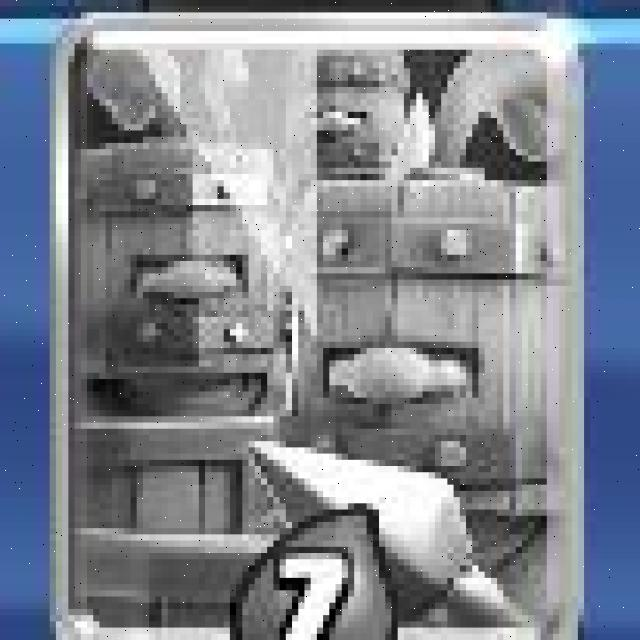Royal_Recruits: (62, 15, 584, 640)
